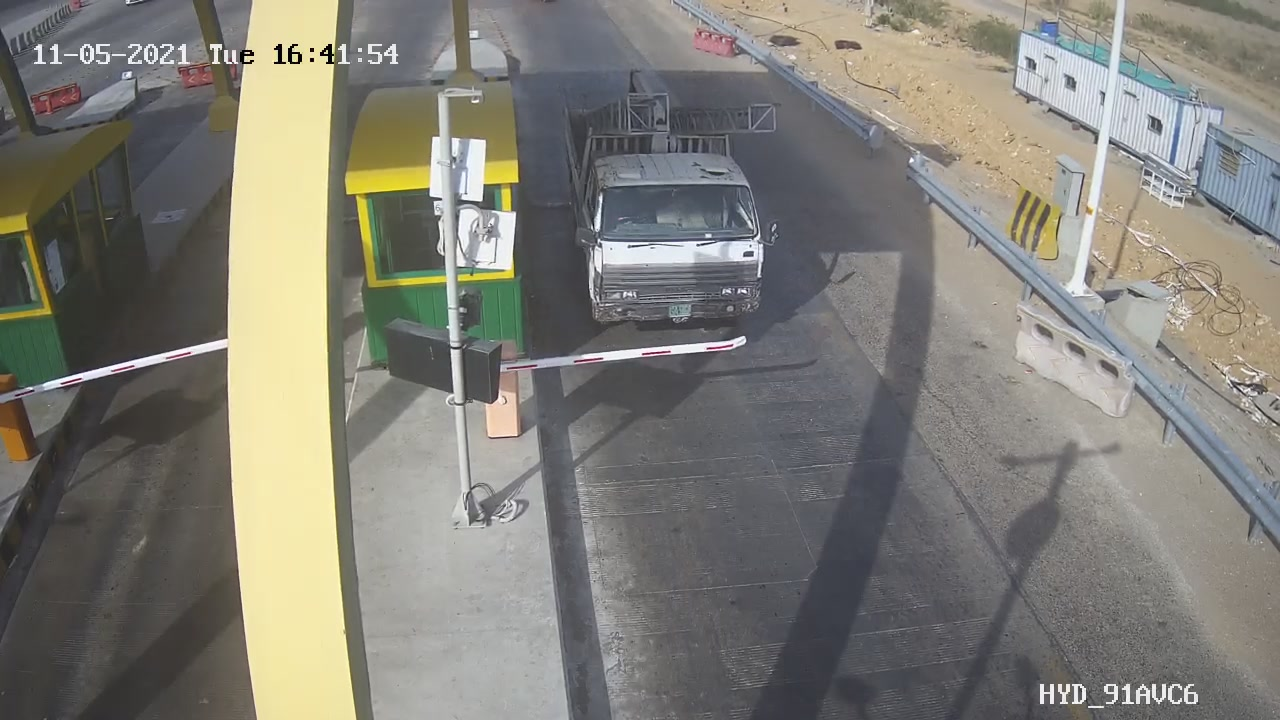F3: (537, 57, 796, 342)
